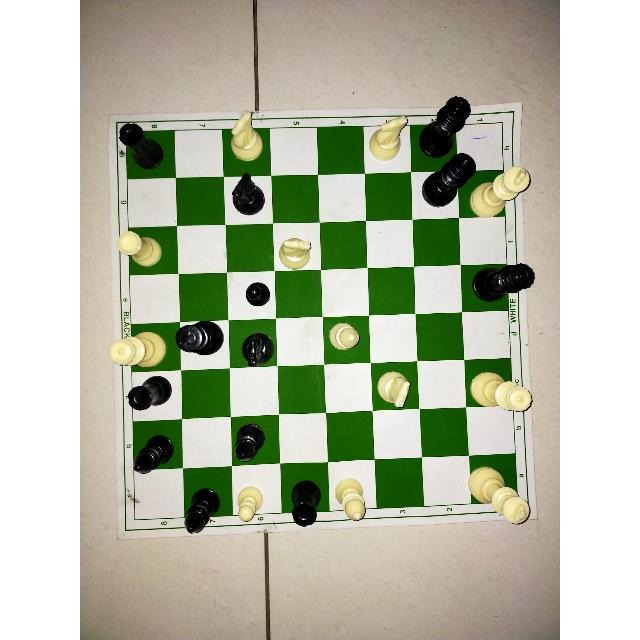black-bishop: (184, 484, 224, 538), (133, 434, 175, 474)
black-king: (420, 156, 474, 210), (176, 319, 224, 361)
black-knight: (228, 327, 279, 367), (226, 183, 274, 221)
black-pawn: (244, 277, 272, 310)
black-queen: (418, 98, 472, 150), (471, 261, 539, 302)
black-rook: (118, 119, 177, 175), (287, 477, 325, 530), (230, 420, 279, 461), (125, 376, 172, 417)
white-bishop: (324, 317, 373, 364), (329, 466, 376, 507)
white-king: (467, 461, 532, 529), (476, 167, 531, 219)
white-knight: (225, 109, 270, 171), (366, 114, 411, 174), (279, 229, 320, 271), (377, 372, 421, 409)
white-pawn: (235, 485, 268, 525)
white-queen: (464, 360, 532, 414), (107, 331, 169, 365)
white-rook: (114, 227, 166, 268)
